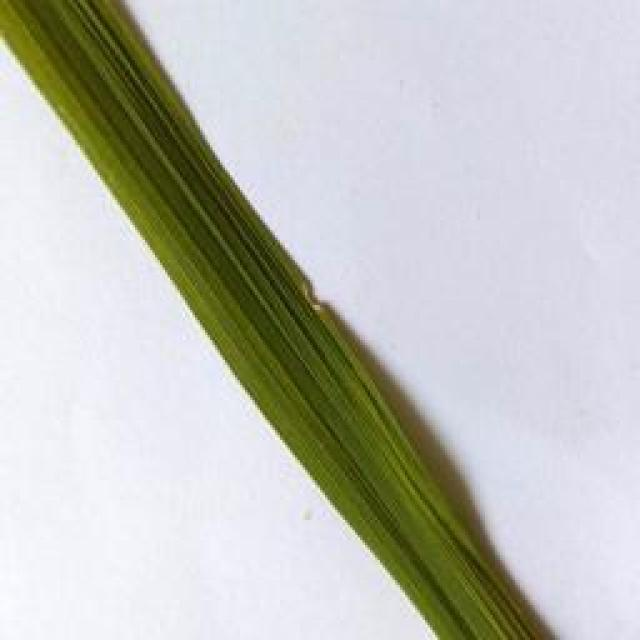Healthy-Plant: (213, 329, 543, 640), (0, 0, 294, 310)
